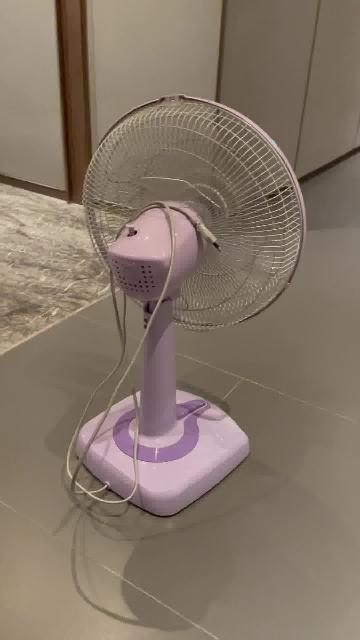Fan: (75, 95, 306, 519)
